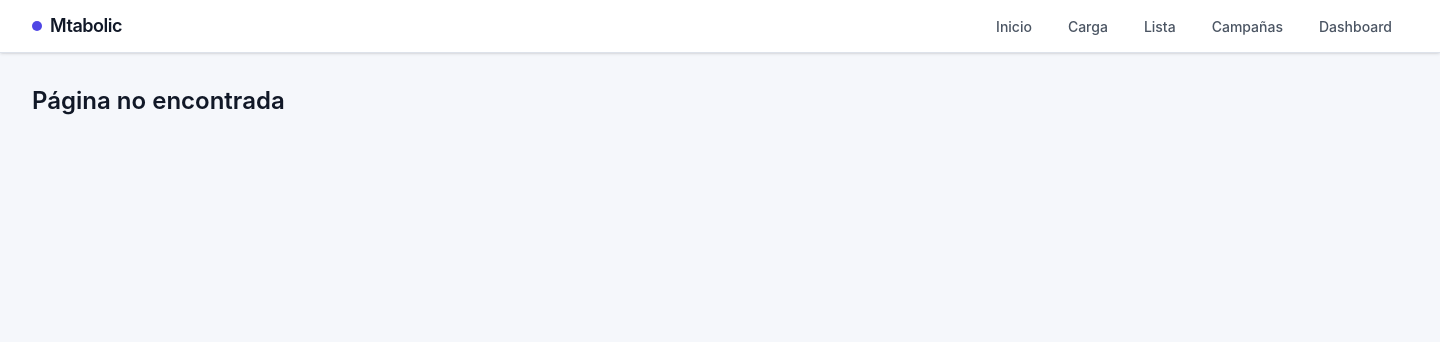
Test: router de la aplicacion (bordes) › navegar desde 404 con el menu → muestra la pagina destino
This screenshot has width=1440, height=342.
Expected: the heading "Página no encontrada" is shown, [32,86,285,115]
Click the link "Dashboard". click: (1356, 26)
box: [1319,18,1392,35]
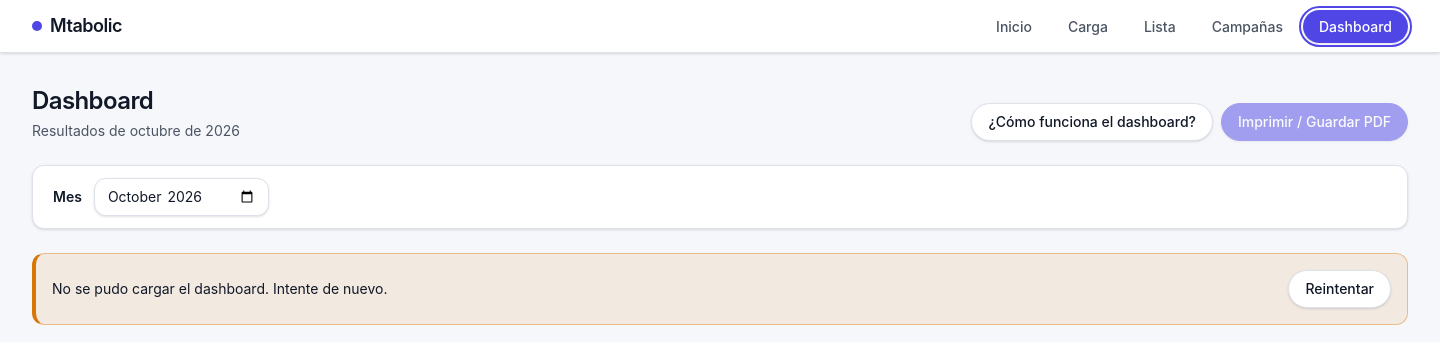
Expected: the heading "Dashboard" is shown, [32,86,153,115]
Expected: the heading "Página no encontrada" is gone
